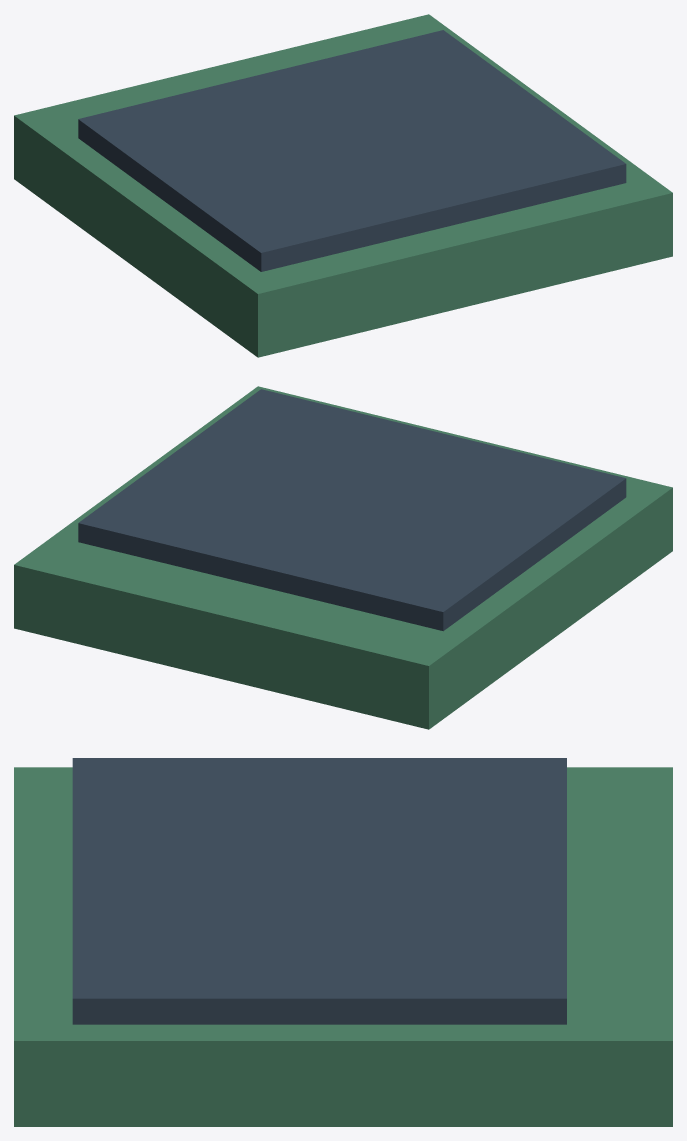
The model's file is ssd1306-096.glb.
3 renders of one model, top to bottom at view 1: azimuth 30°, elevation 25°; view 2: azimuth 150°, elevation 25°; view 3: azimuth 270°, elevation 25°, orthographic. The views are drawn at different scales.
Visible parts, largest first — view 1: ssd1306-096-display, ssd1306-096-pcb; view 2: ssd1306-096-display, ssd1306-096-pcb; view 3: ssd1306-096-display, ssd1306-096-pcb.
Boxes of the visible parts, x1,y1,x2,y2 form: ssd1306-096-display: [78, 30, 626, 271]; ssd1306-096-pcb: [14, 14, 672, 357]; ssd1306-096-display: [78, 389, 626, 631]; ssd1306-096-pcb: [14, 386, 672, 729]; ssd1306-096-display: [72, 758, 566, 1024]; ssd1306-096-pcb: [14, 767, 672, 1126].
Size of the model in its own units: 0.0273 by 0.0052 by 0.0278.
